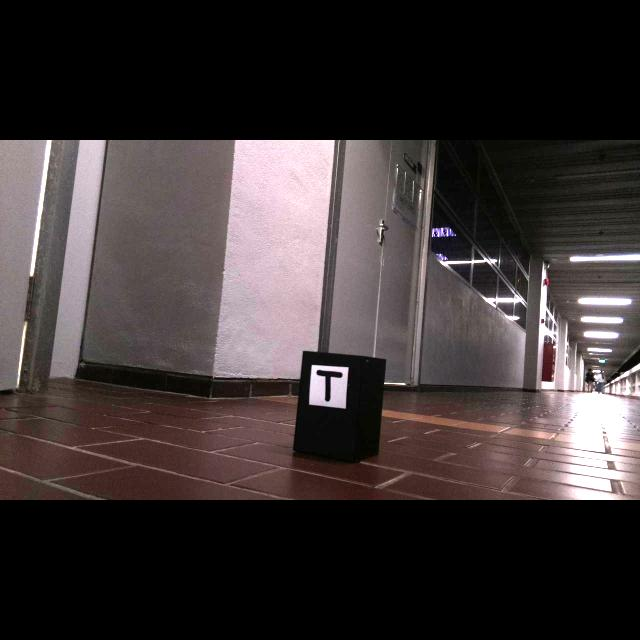T: (317, 370, 343, 401)
